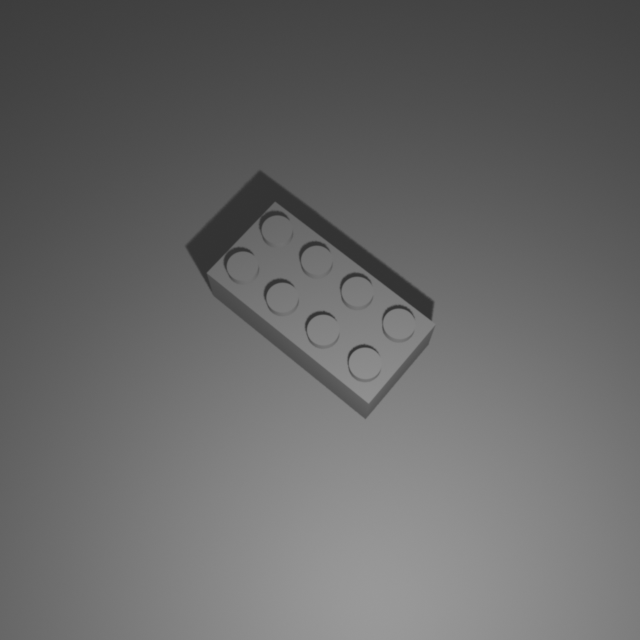lego_2x4: (205, 197, 437, 419)
